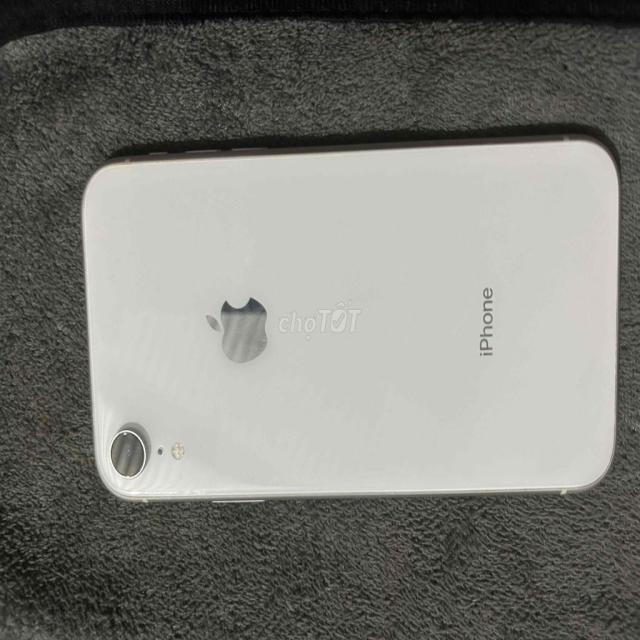gen_x_xs: (62, 124, 627, 508)
